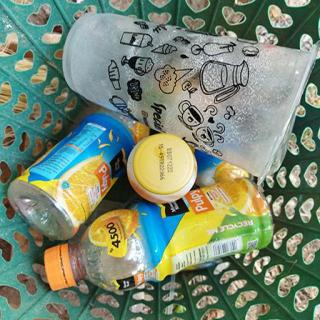Plastic-bottle: (44, 176, 276, 294), (8, 112, 151, 242)
